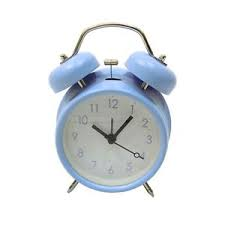alarm_clock: (45, 20, 175, 194), (45, 27, 175, 194)
